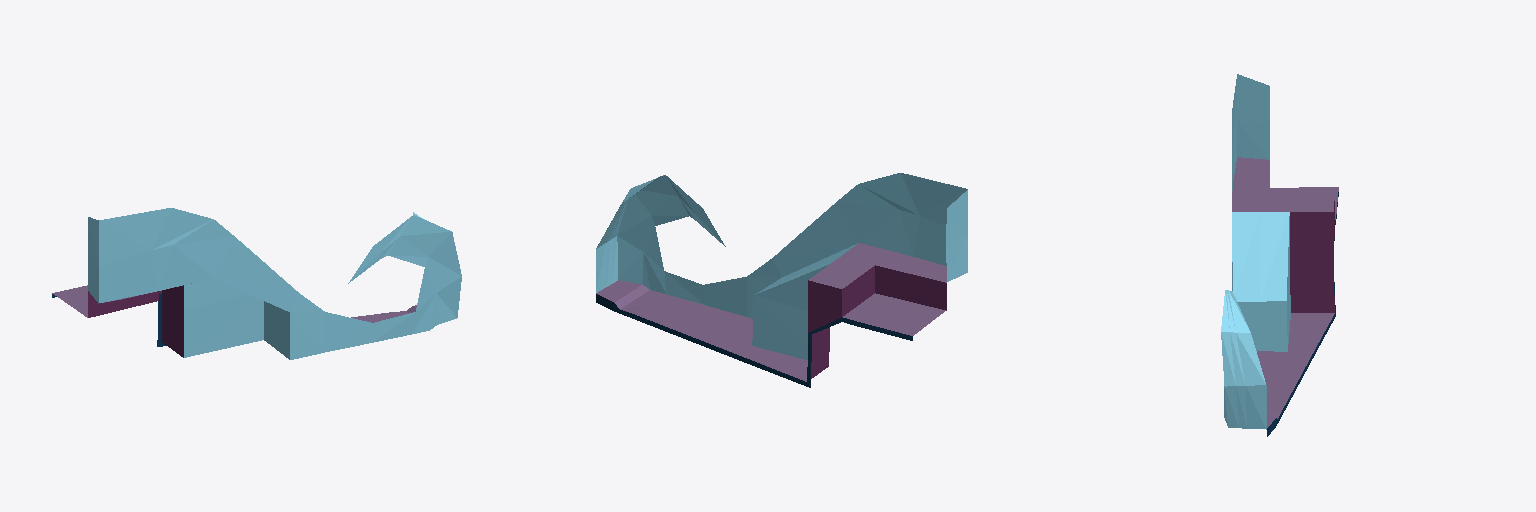
Rendered from Sword_Wood_Zone.obj.
3 views of the same model, side by side, from view 1: azimuth 30°, elevation 25°; view 2: azimuth 150°, elevation 25°; view 3: azimuth 270°, elevation 25° (orthographic).
Visible parts, largest first — view 1: Sword_Zone_2, Sword_Zone_1, Sword_Zone_3; view 2: Sword_Zone_1, Sword_Zone_3, Sword_Zone_2; view 3: Sword_Zone_2, Sword_Zone_1, Sword_Zone_3.
Boxes of the visible parts, box(x1,y1,x2,y2) form: Sword_Zone_2: box(157, 237, 324, 359); Sword_Zone_1: box(52, 208, 234, 317); Sword_Zone_3: box(325, 212, 461, 351); Sword_Zone_1: box(808, 173, 967, 340); Sword_Zone_3: box(596, 175, 746, 346); Sword_Zone_2: box(705, 202, 858, 387); Sword_Zone_2: box(1232, 212, 1335, 373); Sword_Zone_1: box(1232, 74, 1338, 240); Sword_Zone_3: box(1221, 290, 1303, 436).
Size of the model in its own units: 4945 by 2506 by 1414.